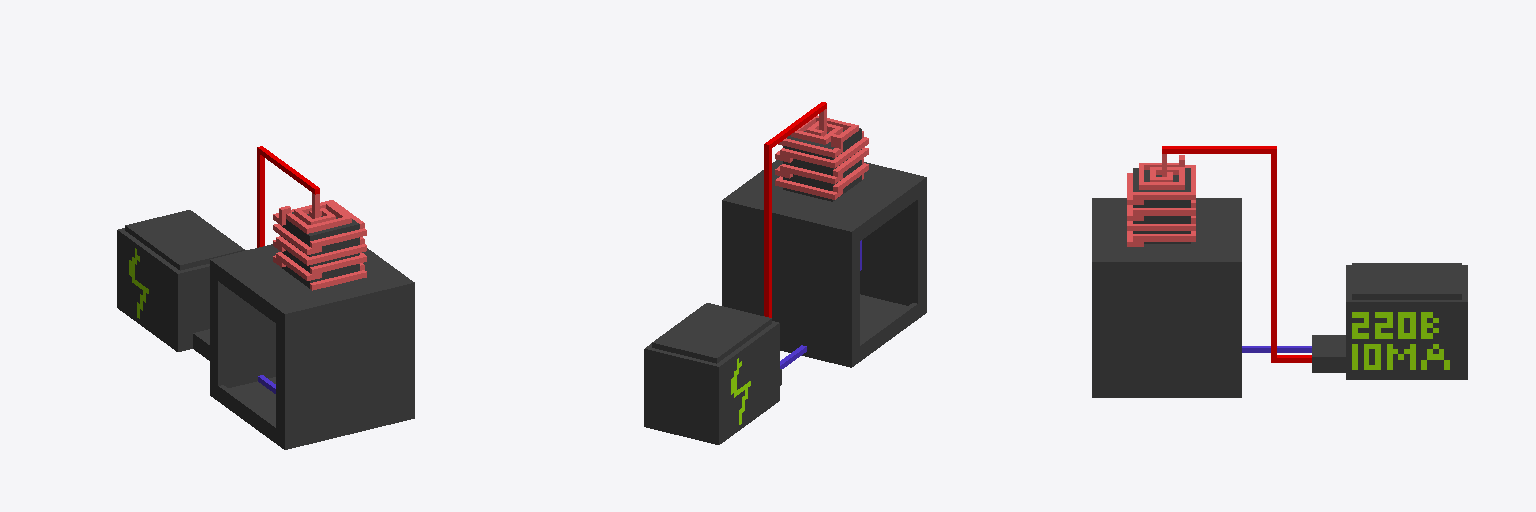
The picture shows the model from 3 angles: view 1: azimuth 30°, elevation 25°; view 2: azimuth 150°, elevation 25°; view 3: azimuth 270°, elevation 25°; orthographic projection.
Parts seen in each view (by area): view 1: object 1; view 2: object 1; view 3: object 1.
Part boxes in pixels (bbox=[...]): object 1: bbox=[117, 146, 414, 449]; object 1: bbox=[644, 102, 926, 444]; object 1: bbox=[1092, 146, 1467, 397].
Bounding box in the file's own units: 2.6 × 4.2 × 6.5.
1 materials, 1 textured.